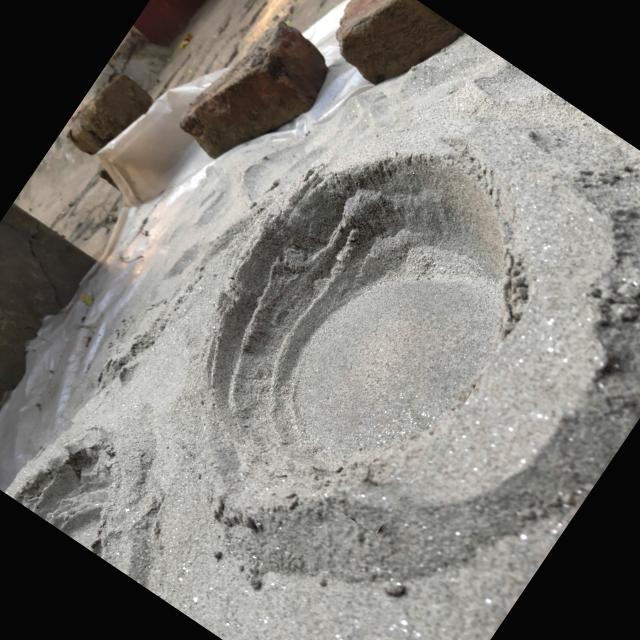C20: (213, 150, 531, 490), (10, 437, 117, 563)
